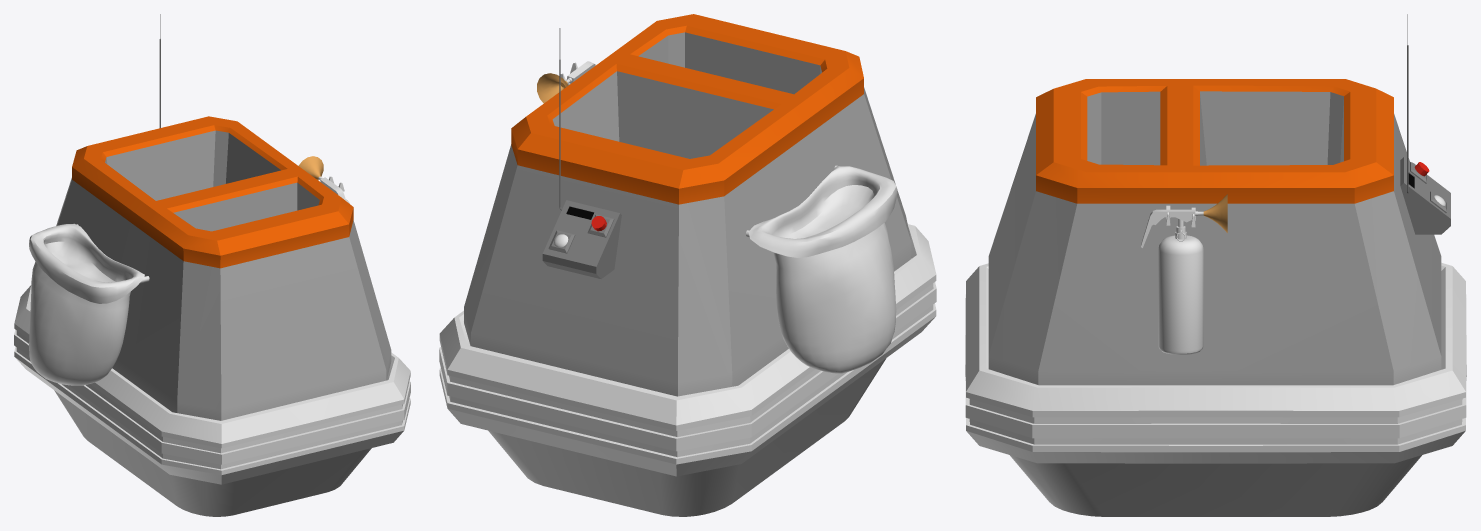
File: hover tex Mesh.002.fbx
3 renders of one model, left to right at view 1: azimuth 30°, elevation 25°; view 2: azimuth 150°, elevation 25°; view 3: azimuth 270°, elevation 25°, orthographic. The views are drawn at different scales.
Visible parts, largest first — view 1: hover tex Mesh.001, hover tex Mesh.002, hover tex Mesh.003; view 2: hover tex Mesh.001, hover tex Mesh.002, hover tex Mesh.003; view 3: hover tex Mesh.001, hover tex Mesh.002, hover tex Mesh.003.
Boxes of the visible parts, box(x1,y1,x2,y2) form: hover tex Mesh.001: box(14, 14, 410, 484); hover tex Mesh.002: box(54, 390, 371, 516); hover tex Mesh.003: box(298, 156, 349, 203); hover tex Mesh.001: box(439, 14, 936, 476); hover tex Mesh.002: box(488, 358, 886, 516); hover tex Mesh.003: box(537, 61, 595, 103); hover tex Mesh.001: box(965, 14, 1466, 463); hover tex Mesh.002: box(1010, 455, 1421, 516); hover tex Mesh.003: box(1141, 194, 1227, 354).
Size of the model in its own units: 302 by 362 by 350.
